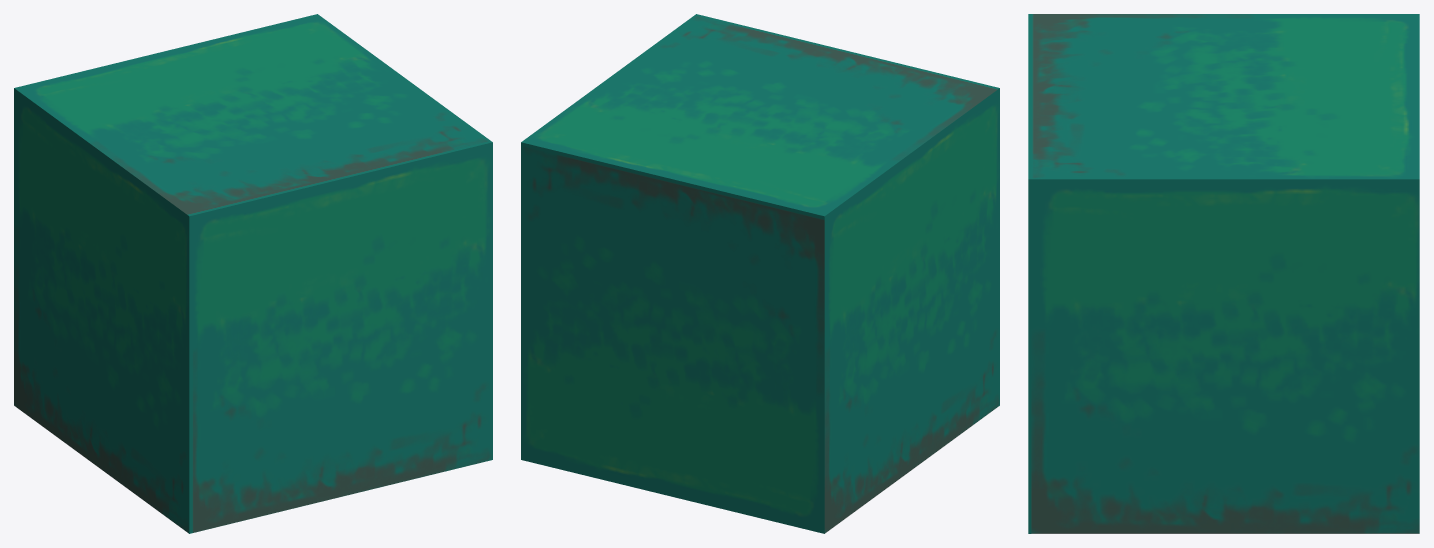
3 renders of one model, left to right at view 1: azimuth 30°, elevation 25°; view 2: azimuth 150°, elevation 25°; view 3: azimuth 270°, elevation 25°, orthographic. The views are drawn at different scales.
Parts seen in each view (by area): view 1: pCube1; view 2: pCube1; view 3: pCube1.
Boxes of the visible parts, bbox=[...] form: pCube1: bbox=[14, 14, 492, 533]; pCube1: bbox=[521, 14, 999, 533]; pCube1: bbox=[1028, 14, 1419, 533].
Bounding box in the file's own units: 1 × 1 × 1.
1 material, 1 textured.
